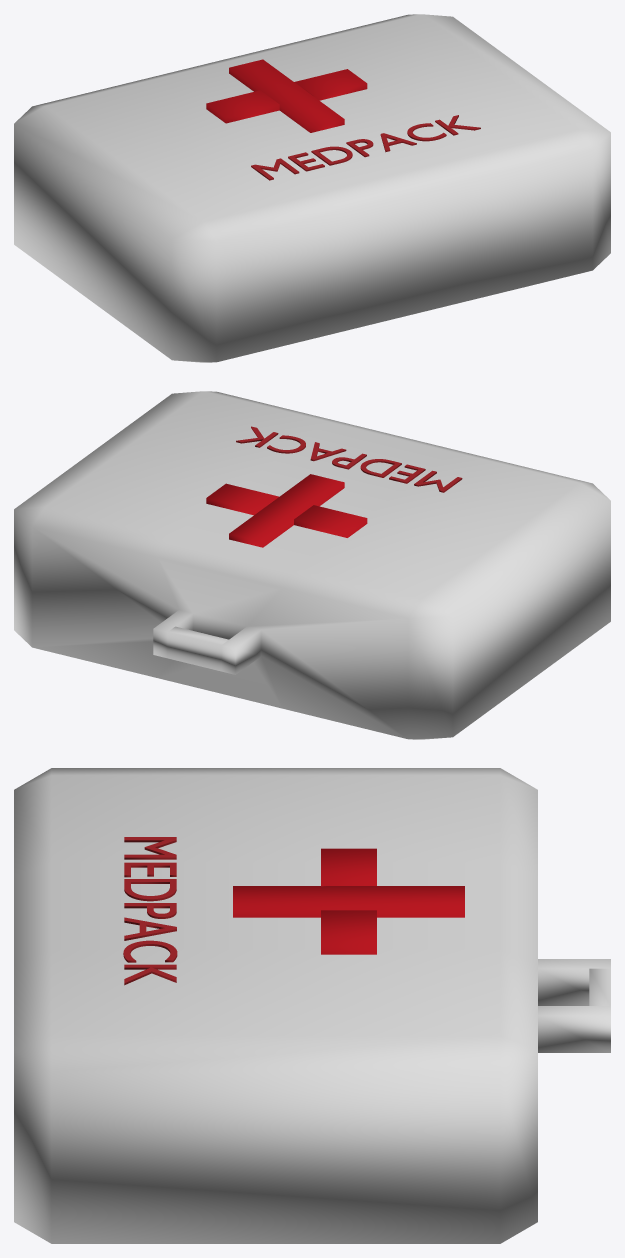
The model's file is medpack.fbx.
3 views of the same model, one above another, from view 1: azimuth 30°, elevation 25°; view 2: azimuth 150°, elevation 25°; view 3: azimuth 270°, elevation 25° (orthographic). The views are drawn at different scales.
Visible parts, largest first — view 1: Cube, CROSS, Text.001; view 2: Cube, CROSS, Text.001; view 3: Cube, CROSS, Text.001.
Boxes of the visible parts, x1,y1,x2,y2 form: Cube: (14,14,610,362); CROSS: (206,59,367,132); Text.001: (251,115,480,180); Cube: (14,391,610,739); CROSS: (206,474,367,547); Text.001: (236,426,462,492); Cube: (14,768,610,1243); CROSS: (233,848,464,954); Text.001: (123,837,177,985).
Bounding box in the file's own units: 1.36 × 0.4338 × 1.13.
